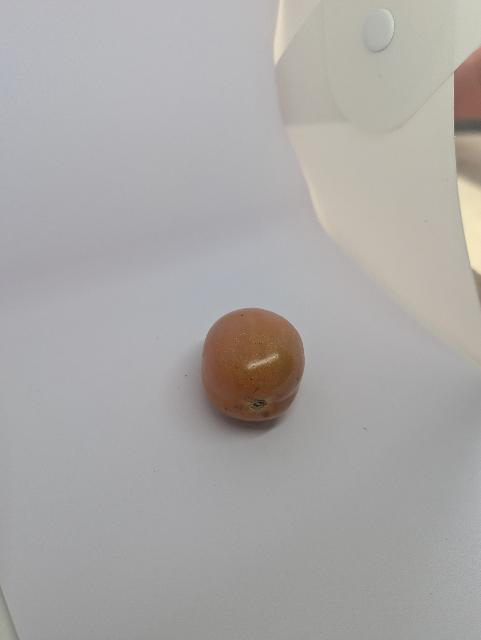turning: (194, 305, 323, 435)
